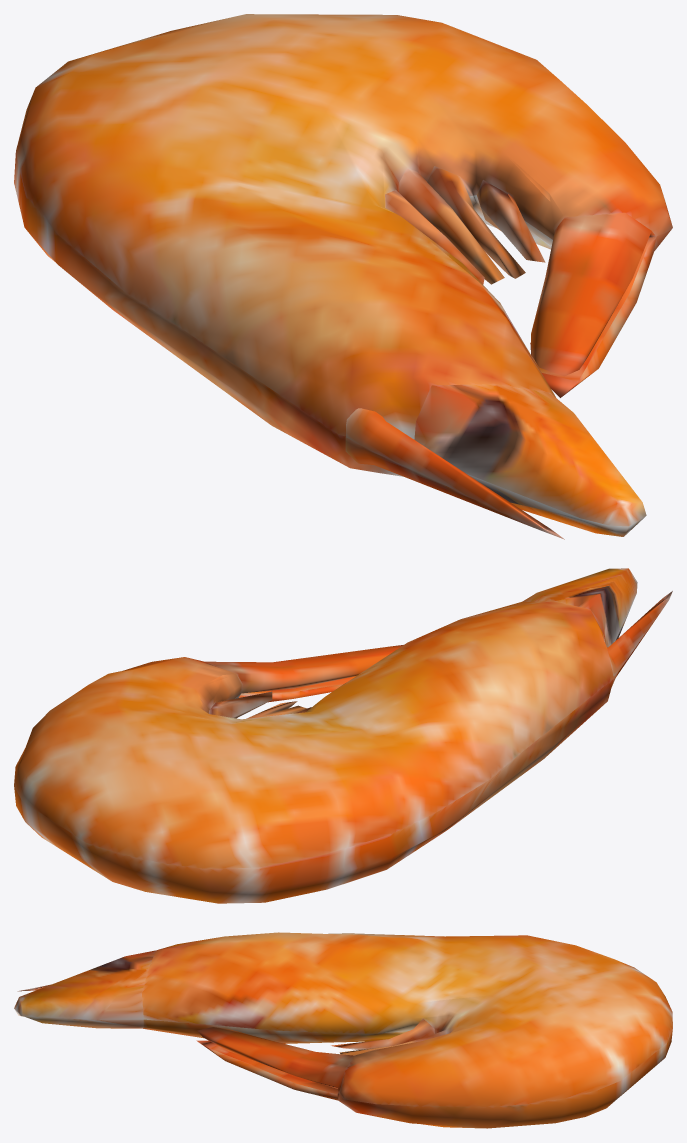
Rendered from Shrimp.obj.
The picture shows the model from 3 angles, top to bottom: view 1: azimuth 30°, elevation 25°; view 2: azimuth 150°, elevation 25°; view 3: azimuth 270°, elevation 25°; orthographic projection. The views are drawn at different scales.
Visible parts, largest first — view 1: shrimp(Clone)_Quality_28; view 2: shrimp(Clone)_Quality_28; view 3: shrimp(Clone)_Quality_28.
Part boxes in pixels (bbox=[...]): shrimp(Clone)_Quality_28: bbox=[14, 14, 672, 539]; shrimp(Clone)_Quality_28: bbox=[14, 568, 672, 903]; shrimp(Clone)_Quality_28: bbox=[14, 932, 672, 1128].
Size of the model in its own units: 0.8175 by 0.25 by 1.54.
